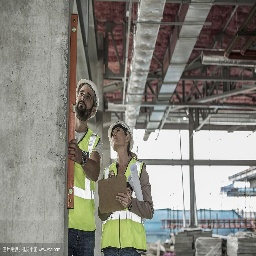person: (101, 118, 151, 256), (65, 75, 103, 256)
vest: (106, 157, 145, 251), (75, 128, 98, 230)
